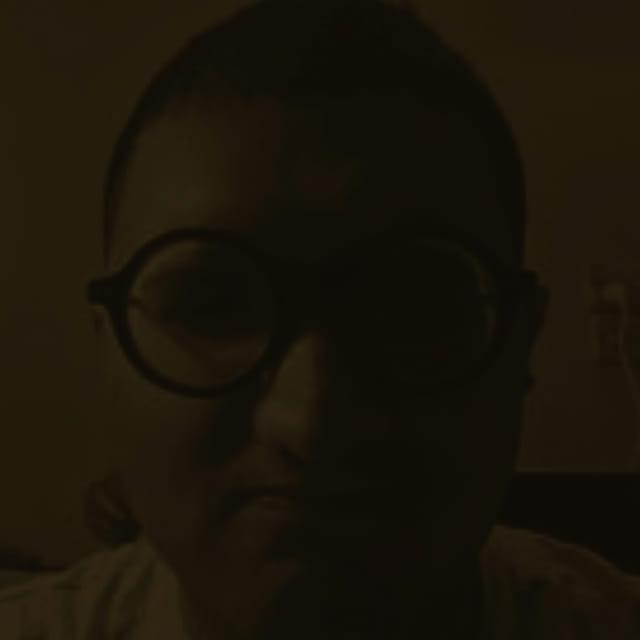Disgust: (72, 38, 586, 640)
